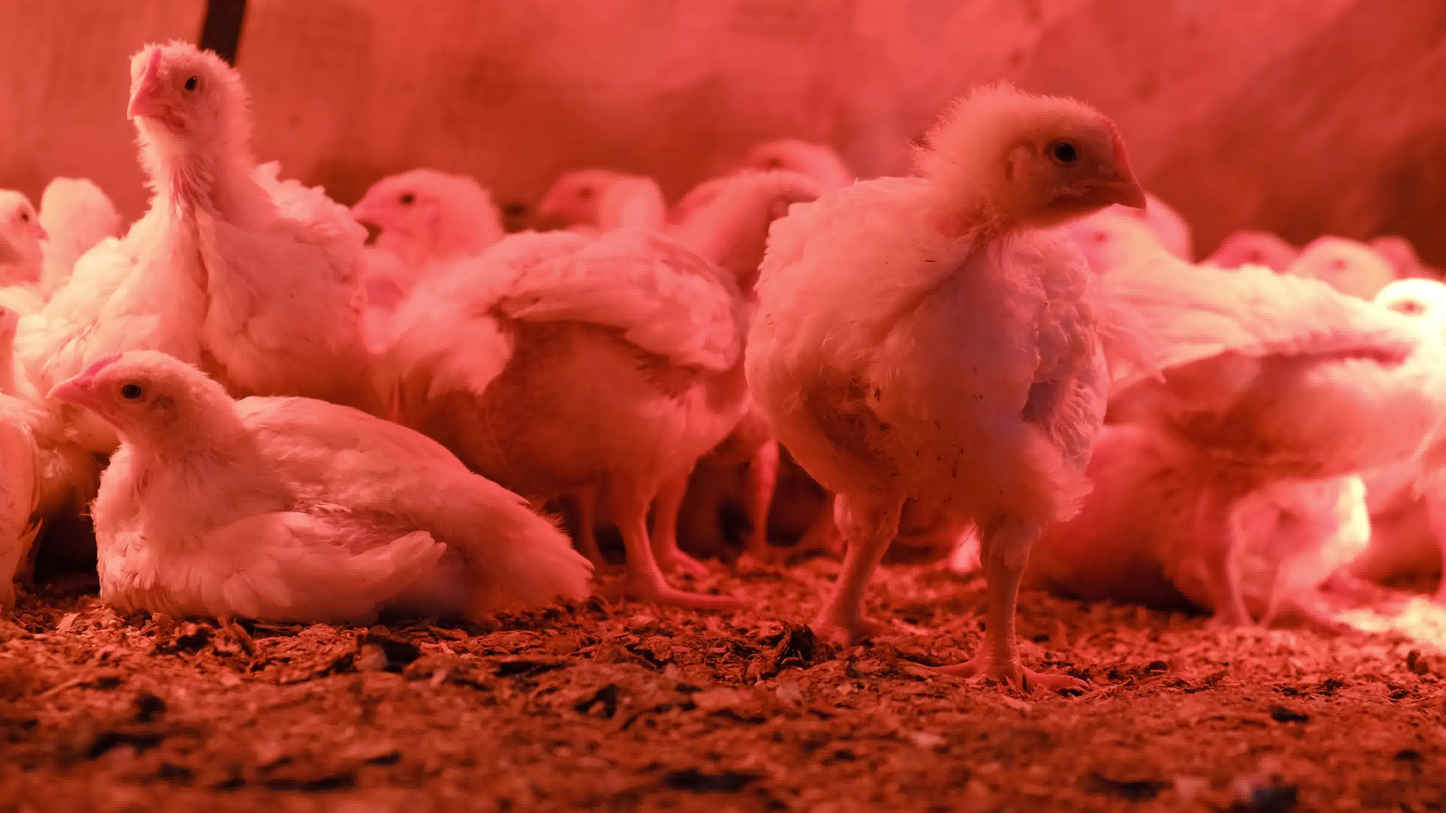AbNormal: (45, 349, 592, 621), (1131, 469, 1379, 617)
Normal: (748, 83, 1153, 697), (409, 174, 829, 595), (1087, 264, 1443, 635), (24, 40, 368, 396), (356, 163, 502, 306), (537, 164, 674, 270), (39, 168, 127, 291), (1076, 206, 1187, 288), (1302, 236, 1388, 316), (0, 192, 55, 306), (1209, 234, 1301, 286)
